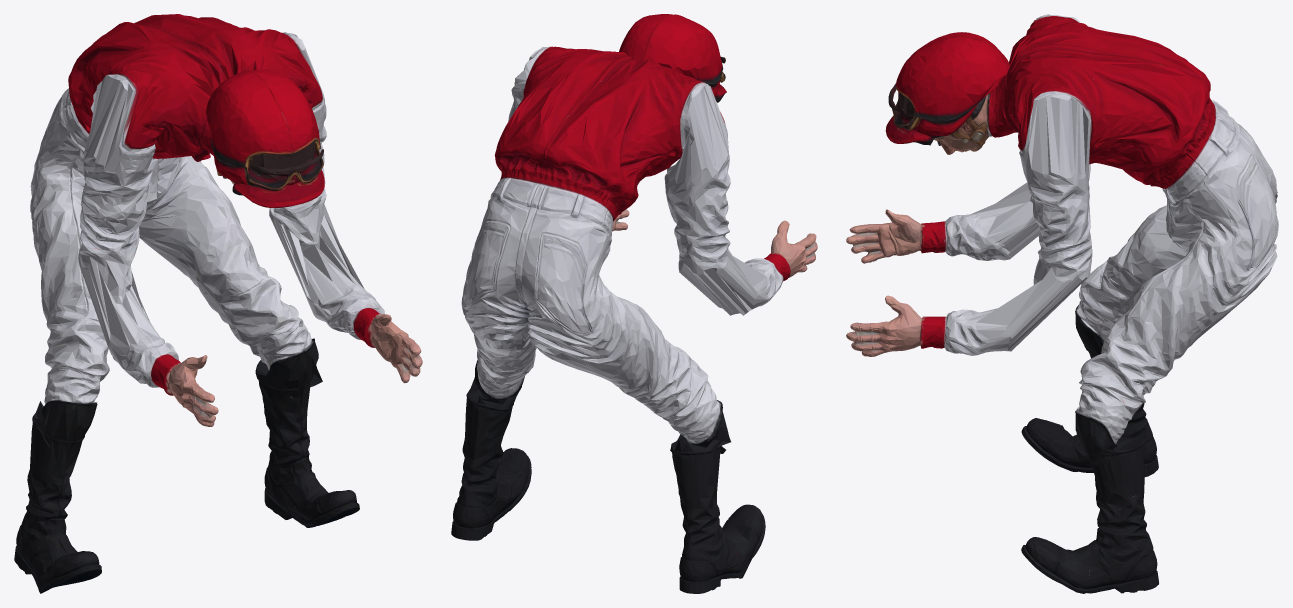
File: jockey.glb
3 renders of one model, left to right at view 1: azimuth 30°, elevation 25°; view 2: azimuth 150°, elevation 25°; view 3: azimuth 270°, elevation 25°, orthographic. The views are drawn at different scales.
Parts seen in each view (by area): view 1: Mesh_0; view 2: Mesh_0; view 3: Mesh_0.
Part boxes in pixels (x1,y1,x2,y2): Mesh_0: (14, 14, 422, 593); Mesh_0: (451, 14, 817, 593); Mesh_0: (846, 14, 1278, 593).
Bounding box in the file's own units: 0.3948 × 0.669 × 0.5284.
1 material, 1 textured.
